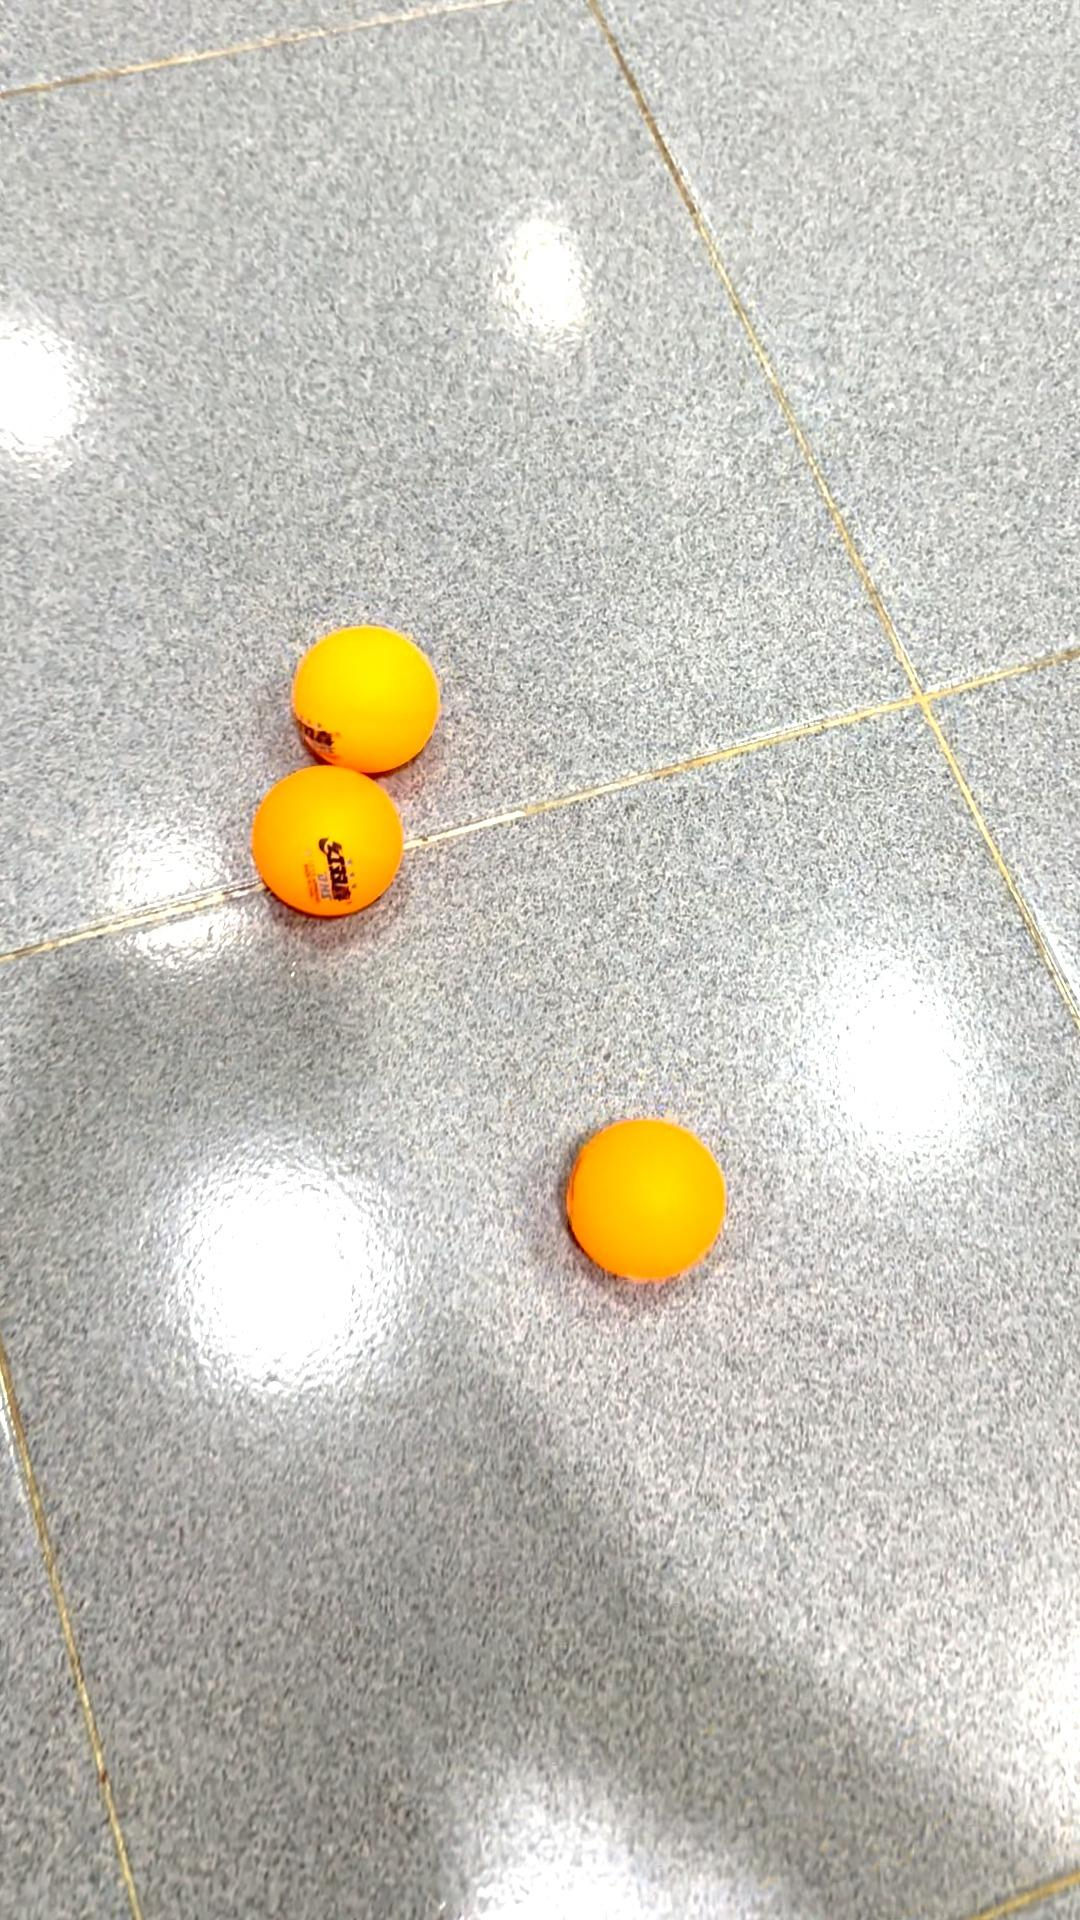oball: (562, 1105, 741, 1295), (244, 767, 419, 932), (287, 621, 455, 783)
